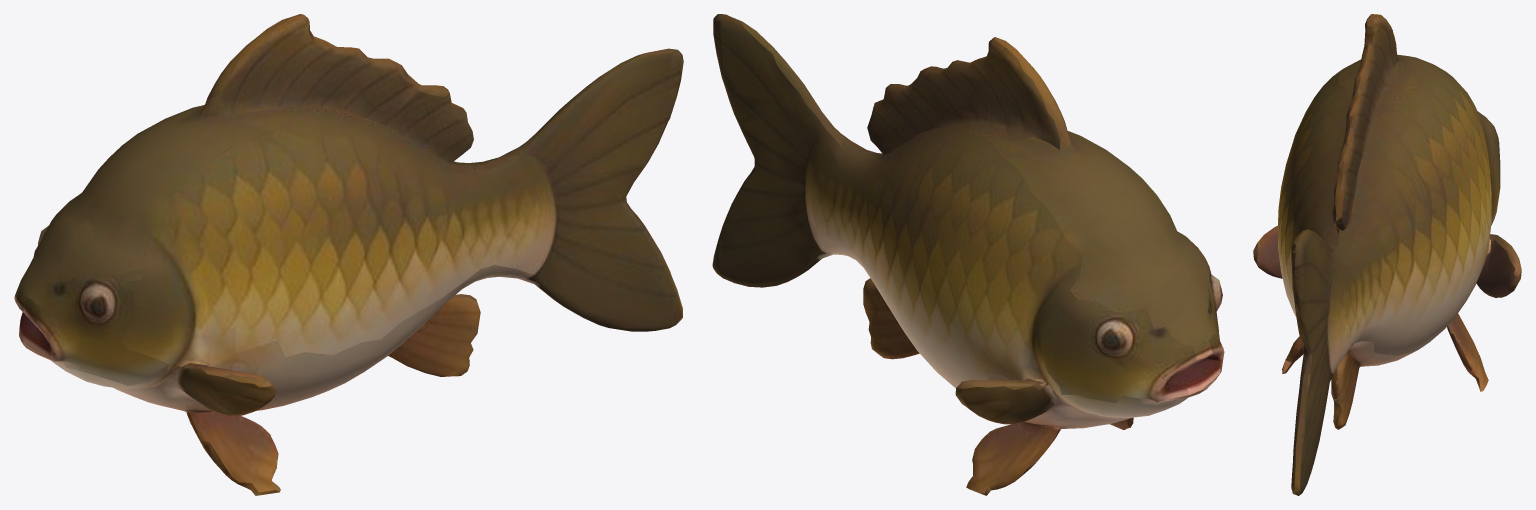
File: fish_l.glb
3 views of the same model, side by side, from view 1: azimuth 30°, elevation 25°; view 2: azimuth 150°, elevation 25°; view 3: azimuth 270°, elevation 25° (orthographic). The views are drawn at different scales.
Parts seen in each view (by area): view 1: item_fish_l; view 2: item_fish_l; view 3: item_fish_l.
Boxes of the visible parts, bbox=[...] form: item_fish_l: bbox=[14, 14, 683, 495]; item_fish_l: bbox=[712, 14, 1224, 495]; item_fish_l: bbox=[1253, 14, 1521, 495].
Bounding box in the file's own units: 1 × 0.6848 × 0.4292.
1 material, 1 textured.
